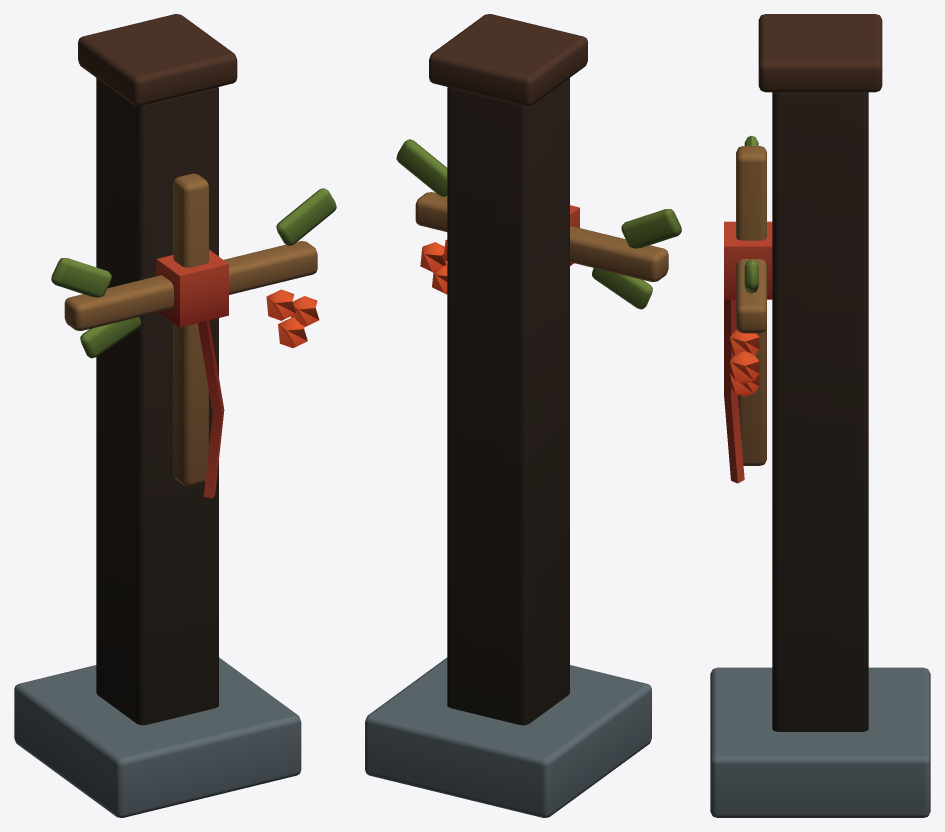
The model's file is rowan_post.glb.
3 renders of one model, left to right at view 1: azimuth 30°, elevation 25°; view 2: azimuth 150°, elevation 25°; view 3: azimuth 270°, elevation 25°, orthographic. The views are drawn at different scales.
Parts seen in each view (by area): view 1: rowan_post, rowan_post_trim; view 2: rowan_post, rowan_post_trim; view 3: rowan_post, rowan_post_trim.
Part boxes in pixels (x1,y1,x2,y2): rowan_post: (14,14,336,817); rowan_post_trim: (156,249,319,498); rowan_post: (365,14,681,817); rowan_post_trim: (420,205,579,294); rowan_post: (710,14,930,817); rowan_post_trim: (724,221,772,483).
Size of the model in its own units: 0.4898 by 1.18 by 0.32.
